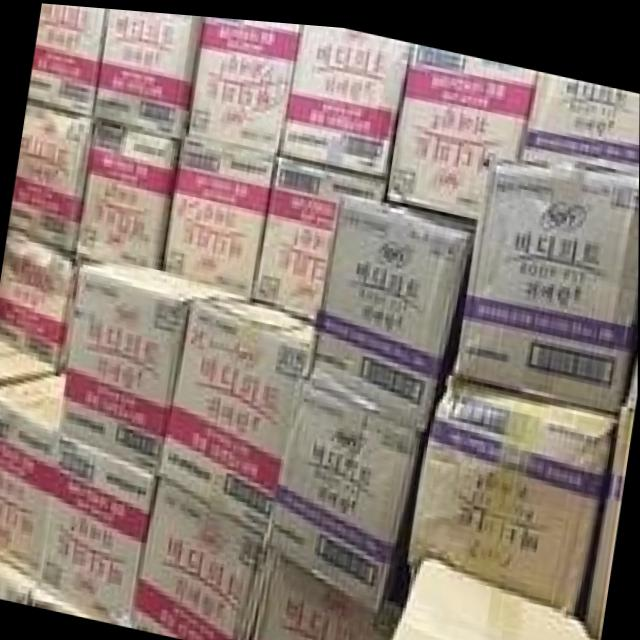box: (408, 371, 618, 606), (452, 148, 639, 405), (59, 260, 250, 473), (308, 187, 474, 425), (267, 375, 427, 607), (160, 298, 313, 532), (387, 58, 535, 215), (250, 149, 387, 318), (133, 474, 266, 640), (43, 435, 157, 622), (280, 19, 410, 171), (392, 548, 597, 640), (163, 133, 277, 294), (186, 13, 302, 149), (74, 119, 182, 264), (249, 544, 410, 640), (97, 7, 203, 140), (0, 371, 65, 578), (579, 395, 636, 627), (9, 101, 94, 254), (521, 62, 640, 161), (0, 226, 76, 368), (27, 3, 108, 115), (60, 257, 109, 370), (30, 582, 127, 625), (0, 336, 57, 385), (0, 554, 43, 605), (464, 47, 536, 69), (622, 321, 638, 398), (413, 37, 464, 61)
